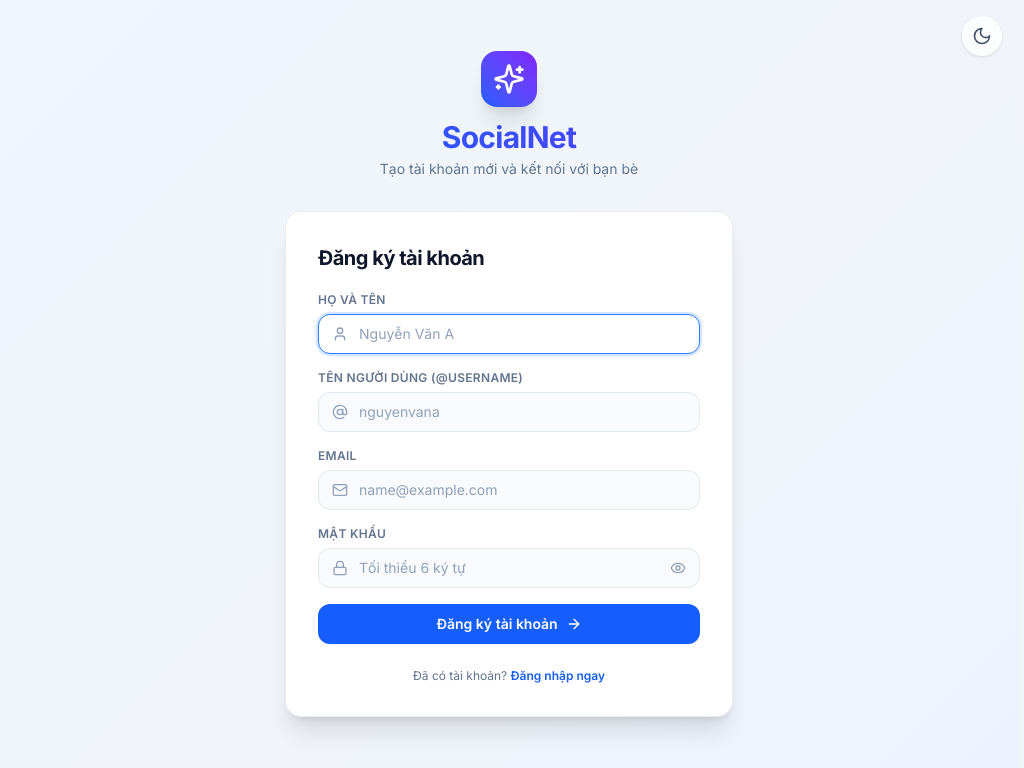
Test: Banner nhắc xác minh › đăng ký xong → vào bảng tin và thấy banner nhắc xác minh
The image size is (1024, 768).
Type "Người Mới" into the field labelled "Họ và tên". click: (509, 334)
box: left=318, top=314, right=700, bottom=354
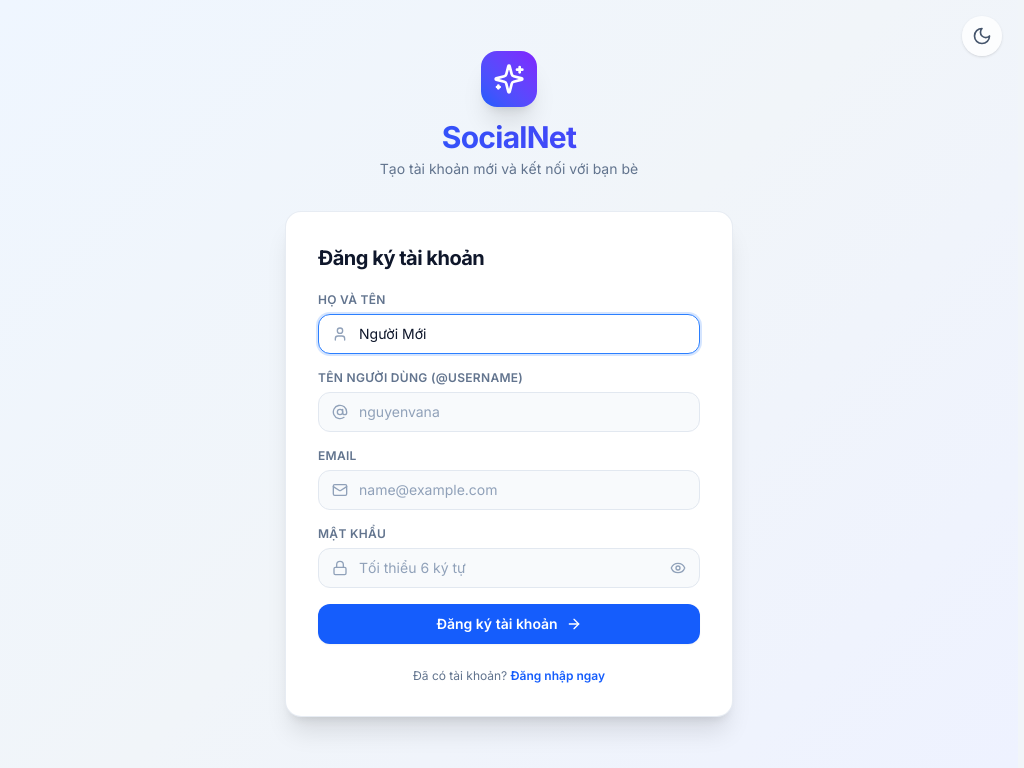
Type "nguoimoi" into the field labelled "Tên người dùng (@username)". click: (509, 412)
box: left=318, top=392, right=700, bottom=432
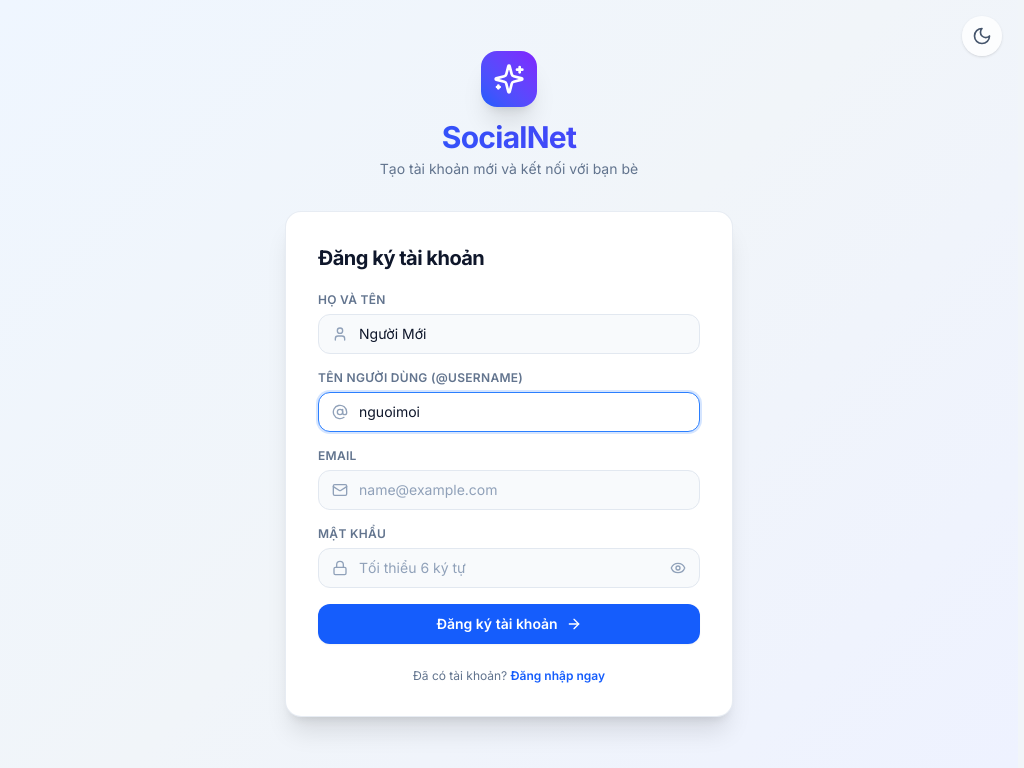
Type "moi@test.vn" into the field labelled "Email". click: (509, 490)
box: left=318, top=470, right=700, bottom=510
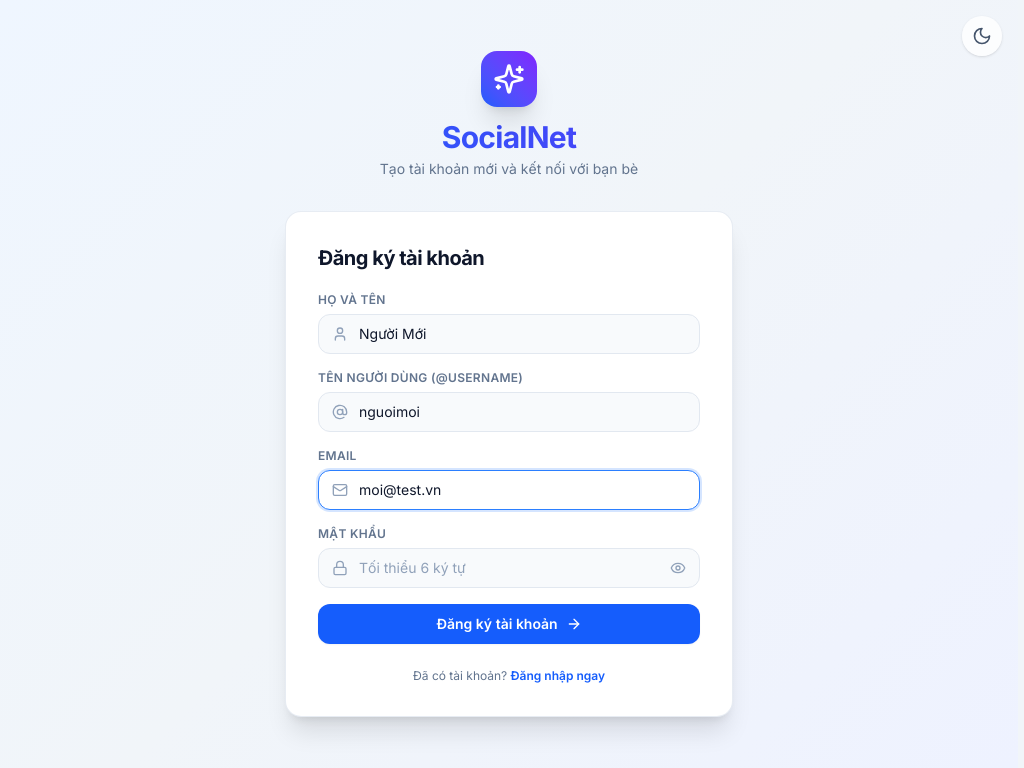
Type "matkhau1" into the password field labelled "Mật khẩu". click: (509, 568)
box: left=318, top=548, right=700, bottom=588
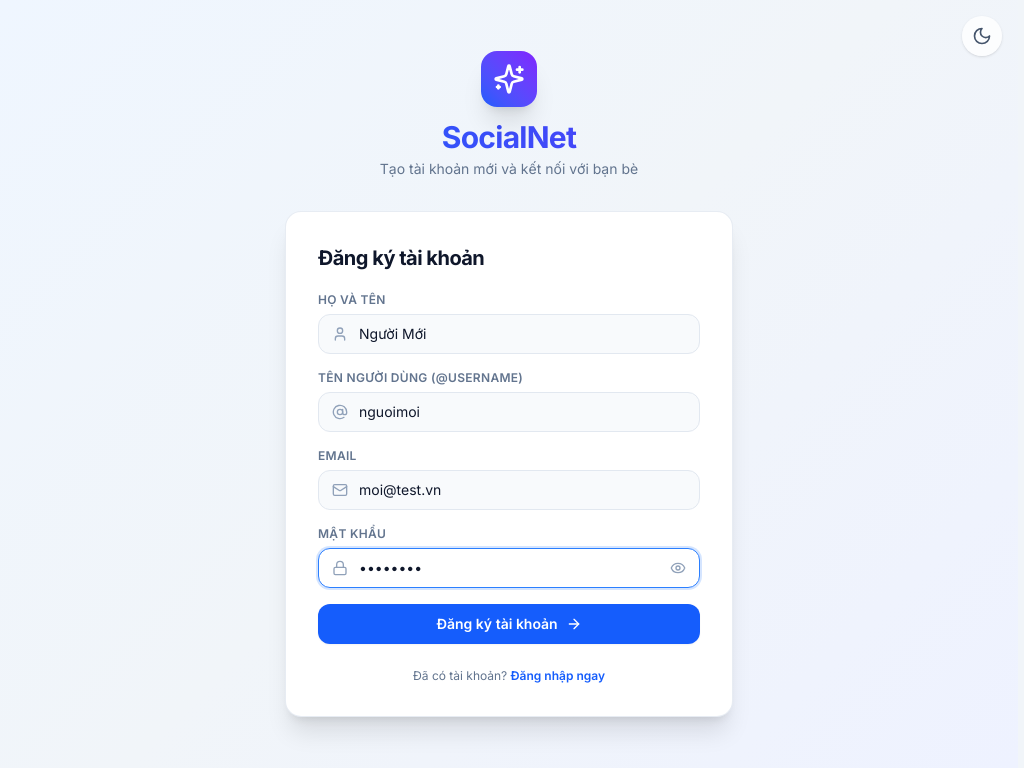
Click the button "Đăng ký tài khoản". click: (509, 624)
box: left=318, top=604, right=700, bottom=644
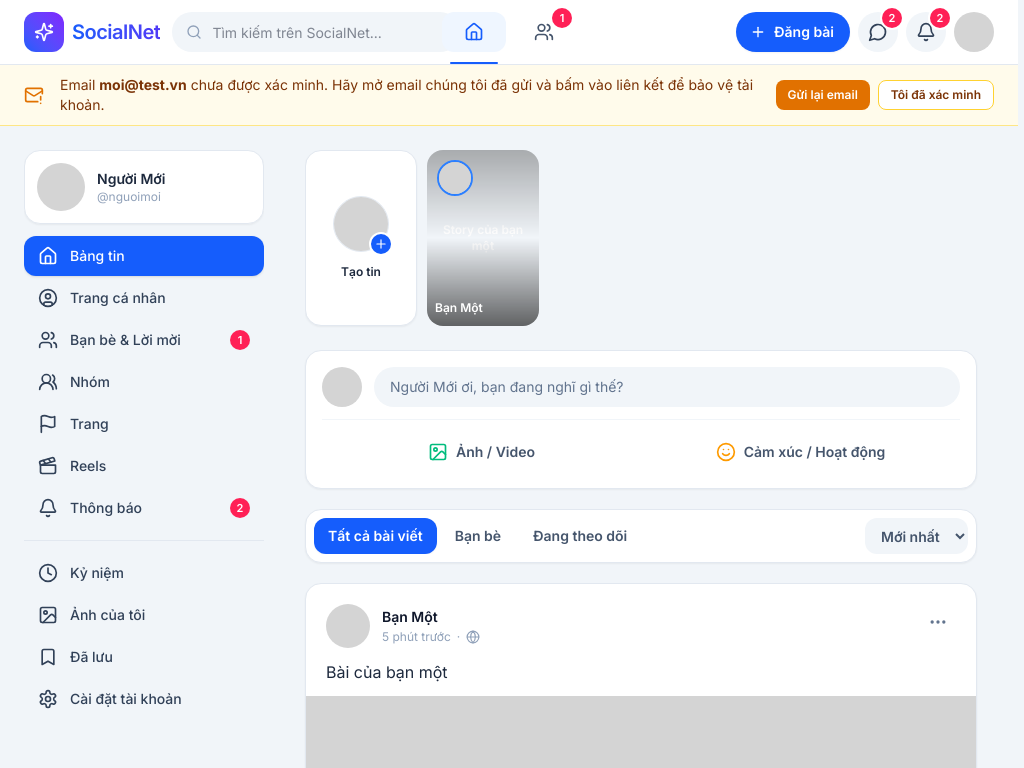
Check: the text "chưa được xác minh" is shown, box left=60, top=76, right=753, bottom=113
Check: the text "moi@test.vn" is shown, box left=99, top=76, right=187, bottom=93
